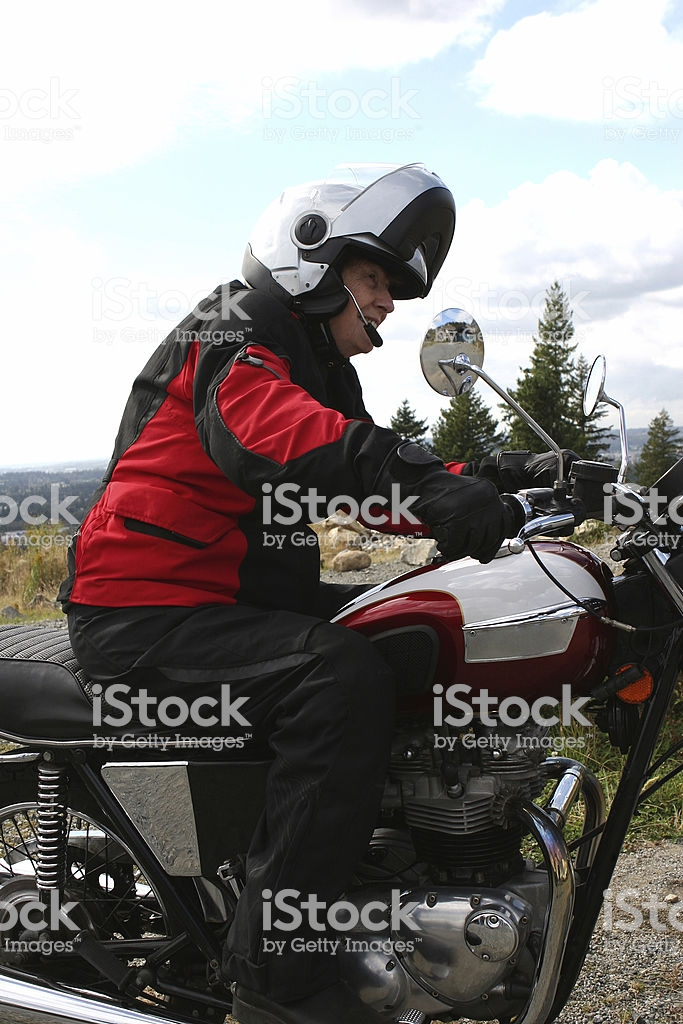helmet: (245, 176, 467, 336)
